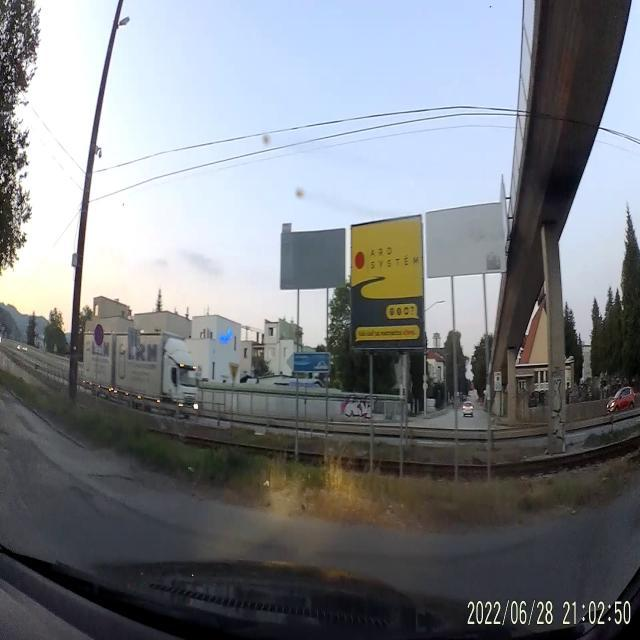Pothole: (0, 427, 10, 437), (3, 446, 11, 452)
